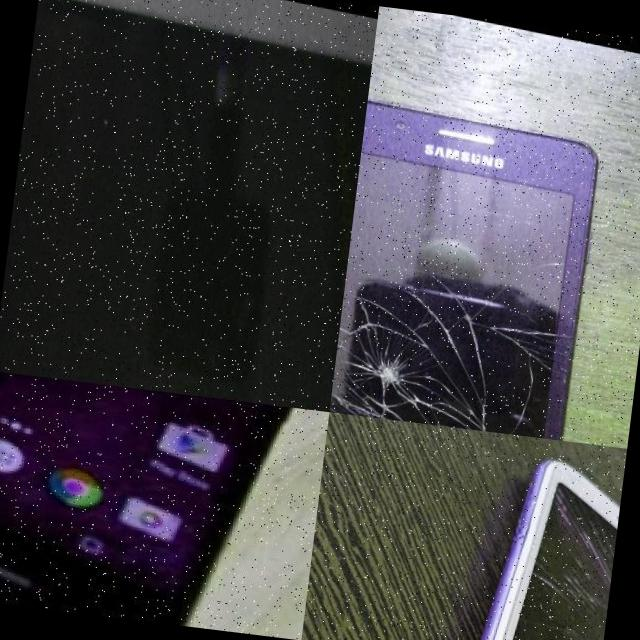screen crack: (328, 192, 599, 440), (436, 446, 624, 640)
